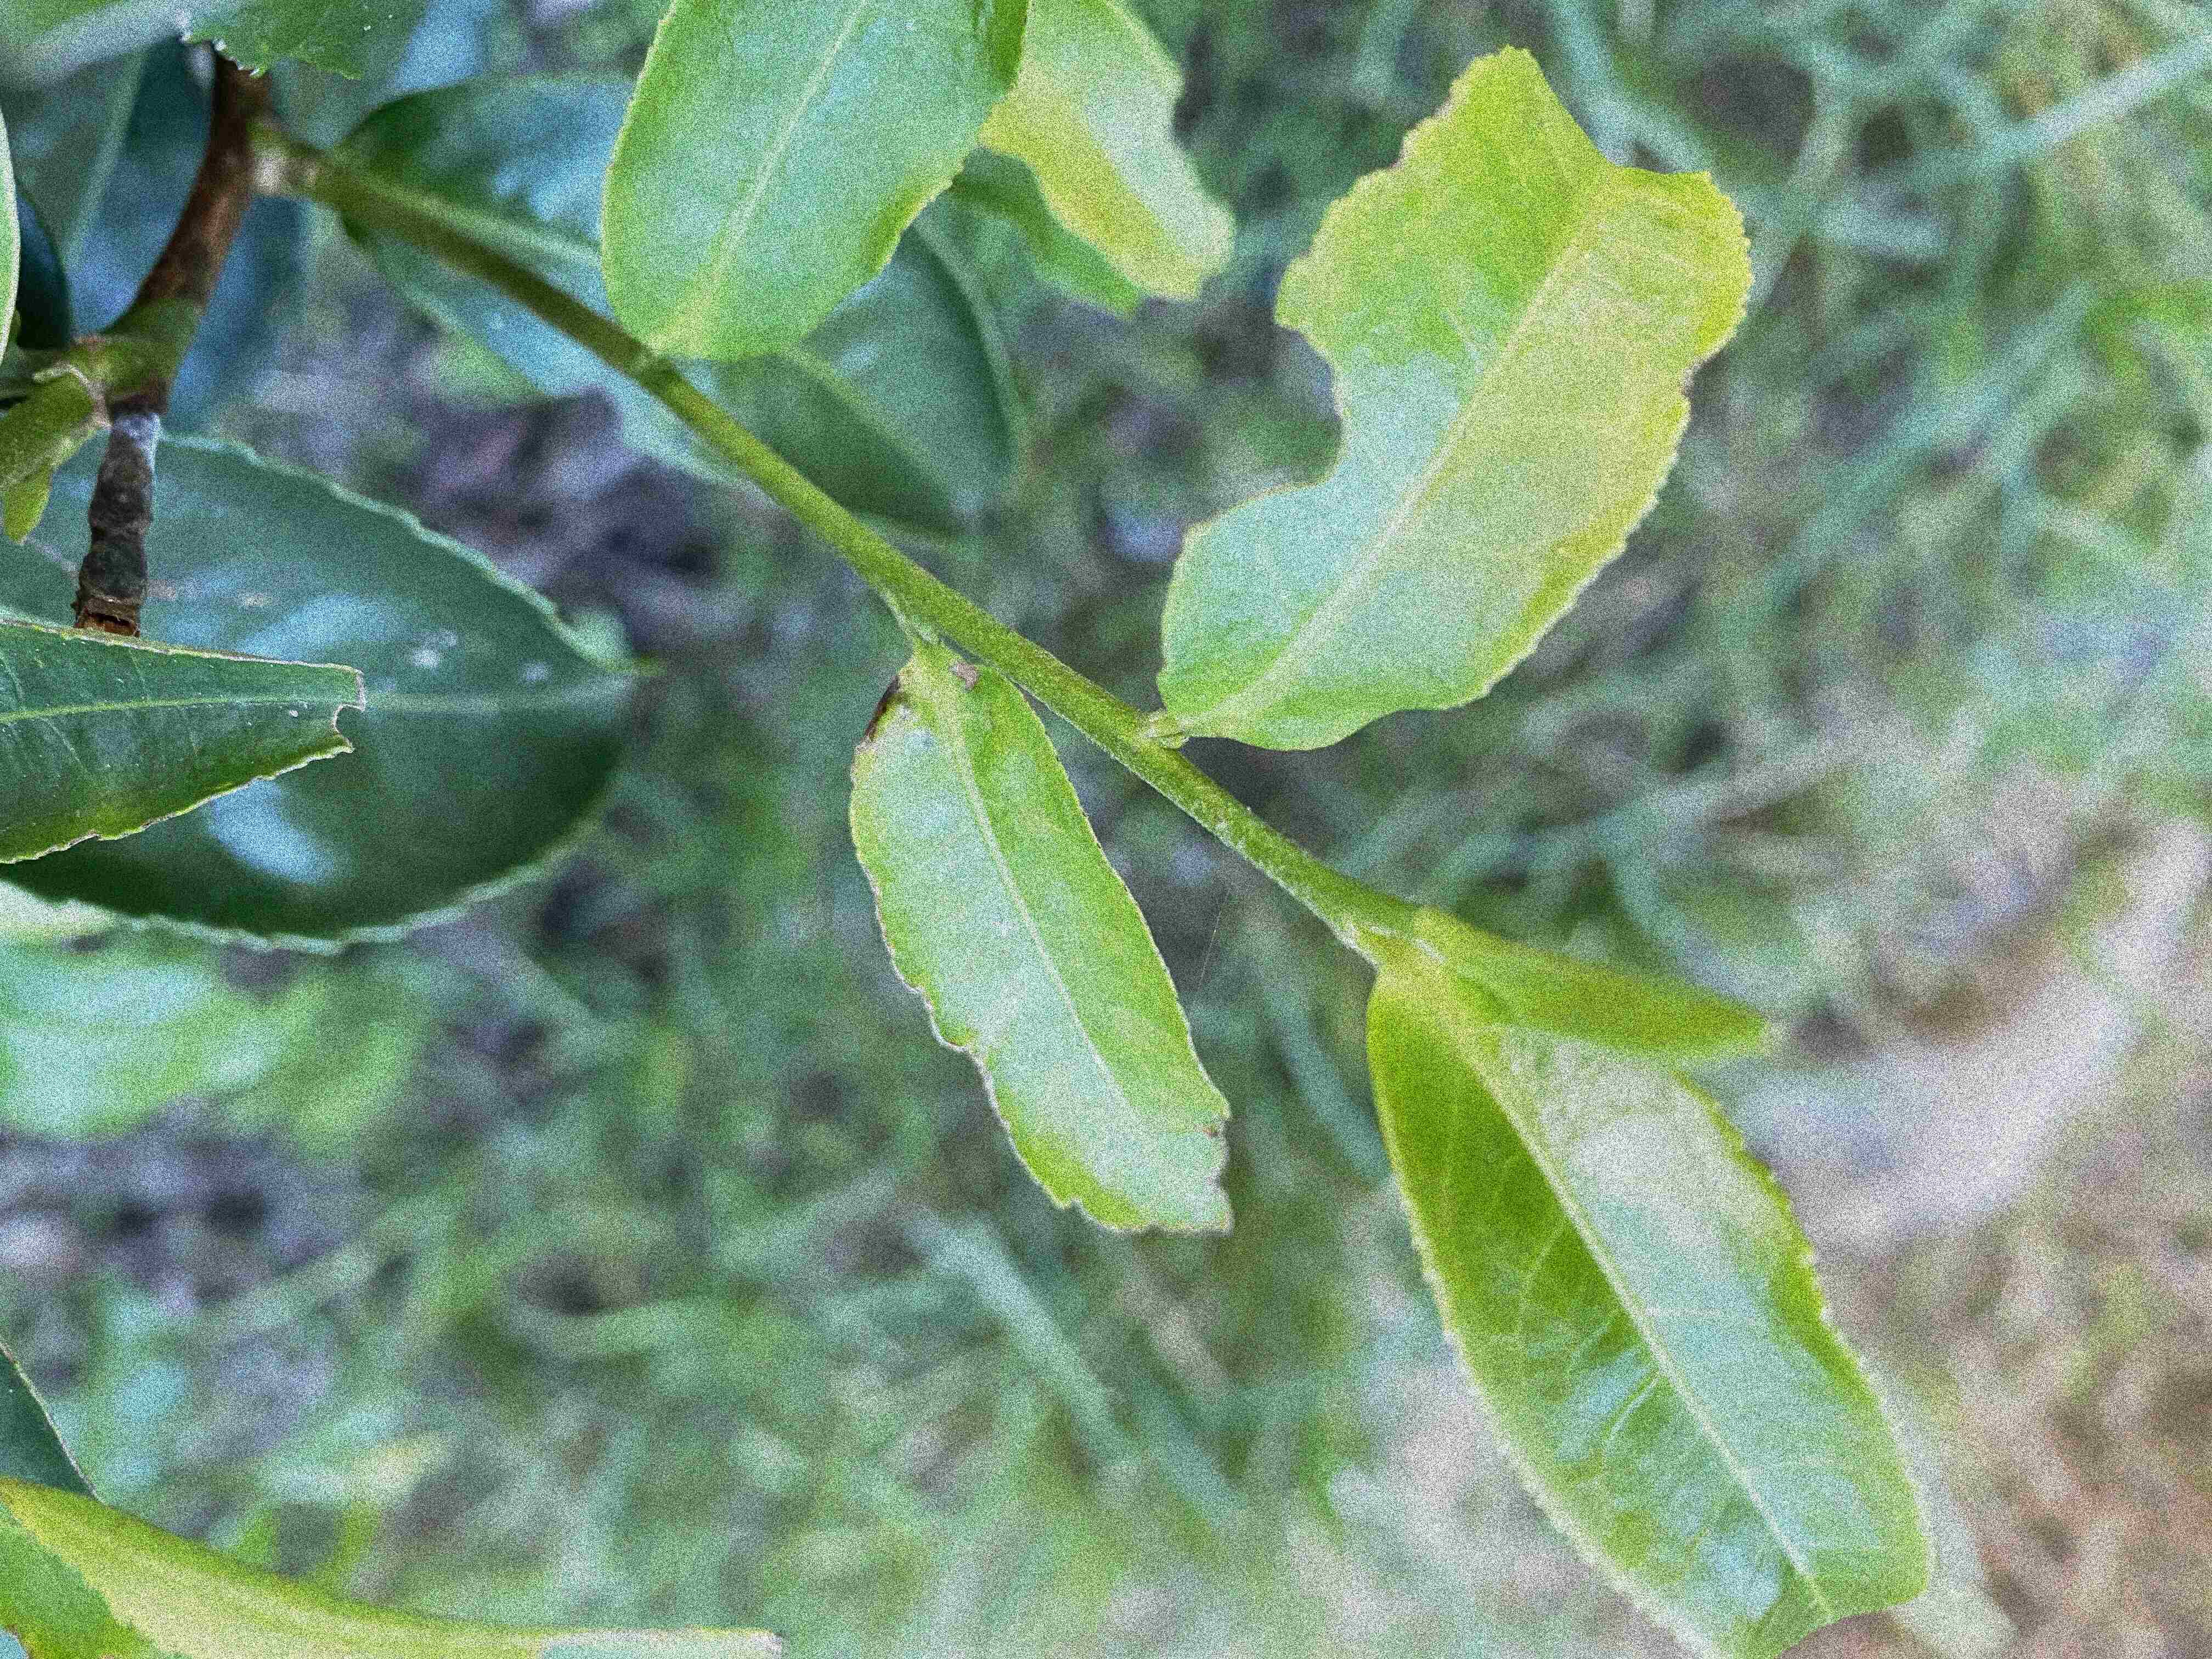chihuo_high: (1153, 45, 1756, 755), (841, 641, 1240, 1239)
chihuo_low: (3, 615, 368, 870)
